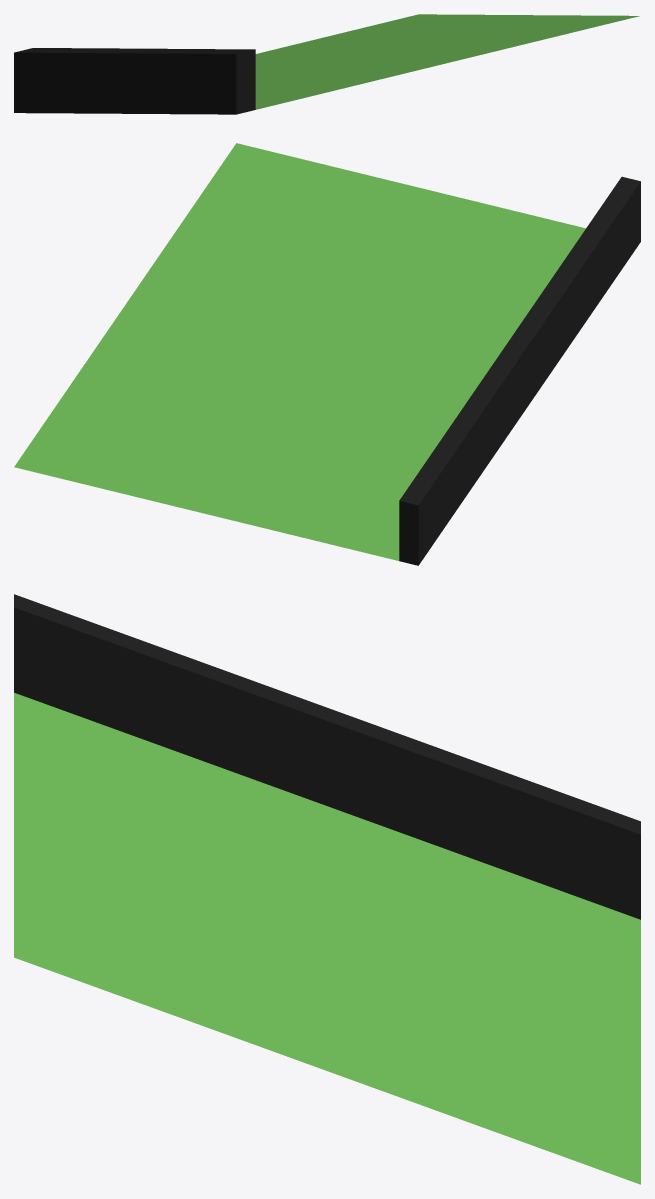
Rendered from tile5_ramp2.fbx.
3 renders of one model, top to bottom at view 1: azimuth 30°, elevation 25°; view 2: azimuth 150°, elevation 25°; view 3: azimuth 270°, elevation 25°, orthographic. The views are drawn at different scales.
Visible parts, largest first — view 1: T4_Ramp_inv; view 2: T4_Ramp_inv; view 3: T4_Ramp_inv.
Boxes of the visible parts, x1,y1,x2,y2 form: T4_Ramp_inv: [14, 14, 639, 114]; T4_Ramp_inv: [14, 143, 640, 565]; T4_Ramp_inv: [14, 594, 640, 1184].
Bounding box in the file's own units: 210 × 110 × 200.
